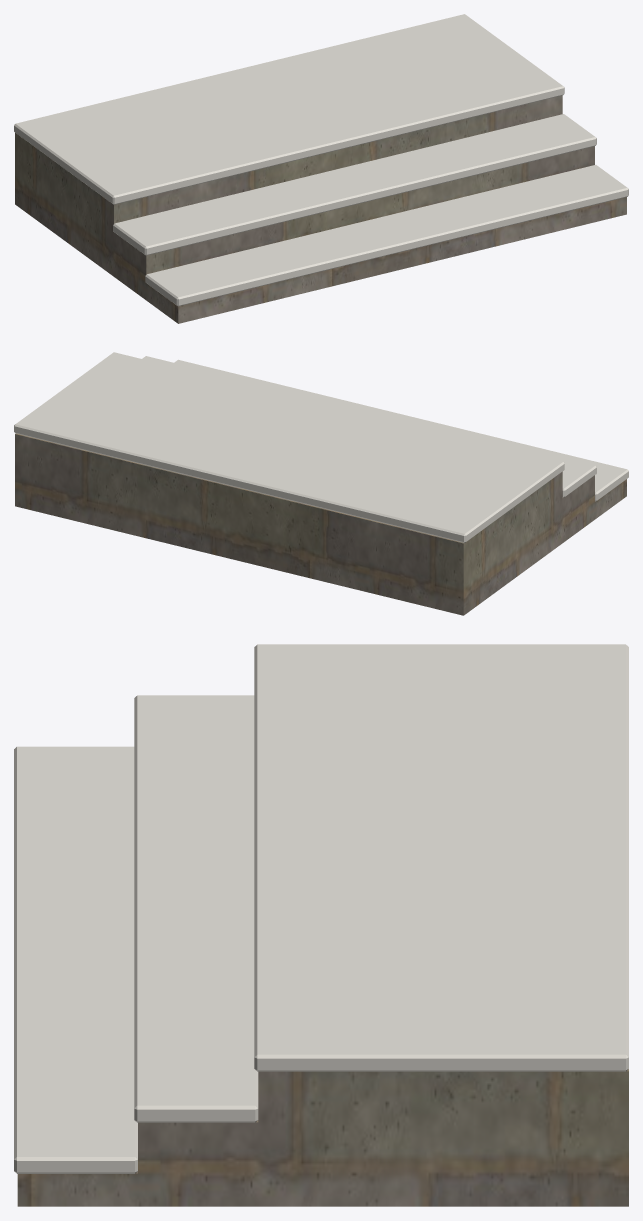
File: front_steps.glb
3 views of the same model, one above another, from view 1: azimuth 30°, elevation 25°; view 2: azimuth 150°, elevation 25°; view 3: azimuth 270°, elevation 25° (orthographic). The views are drawn at different scales.
Parts seen in each view (by area): view 1: front_steps_cill, front_steps_stone; view 2: front_steps_cill, front_steps_stone; view 3: front_steps_cill, front_steps_stone.
Boxes of the visible parts, x1,y1,x2,y2 form: front_steps_cill: (14, 14, 628, 306); front_steps_stone: (15, 95, 626, 323); front_steps_cill: (14, 352, 628, 542); front_steps_stone: (15, 433, 626, 615); front_steps_cill: (14, 644, 628, 1173); front_steps_stone: (17, 1069, 628, 1206).
Bounding box in the file's own units: 2.6 × 0.447 × 1.64.
Materials: 2 (1 with a texture image).
